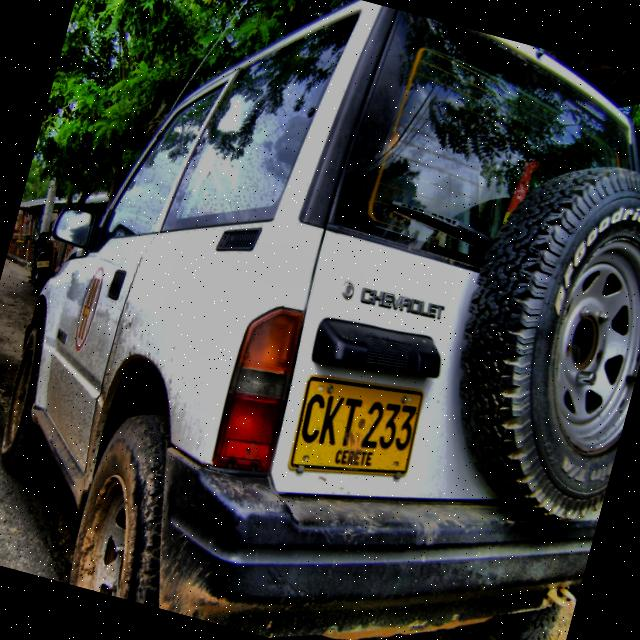plate: (288, 373, 423, 476)
